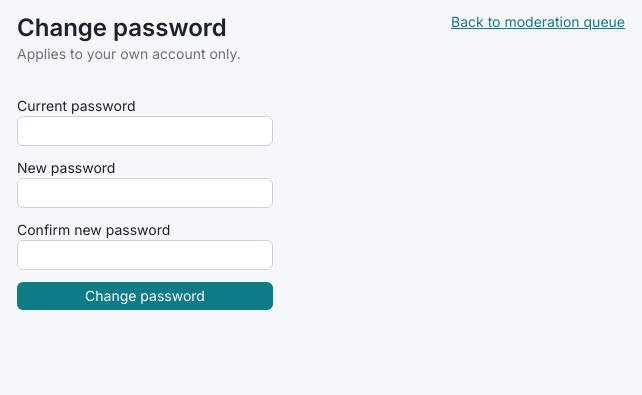
Test: ChangePasswordPage (GitHub issue #589/#591, Phase 42, D99) › changes the password on success
Expected: the text "Applies to your own account only." is shown, [17,44,241,64]
Type "old-password-value" into the password field labelled "Current password".
click(145, 131); type("old-password-value")  # box [17,116,273,146]
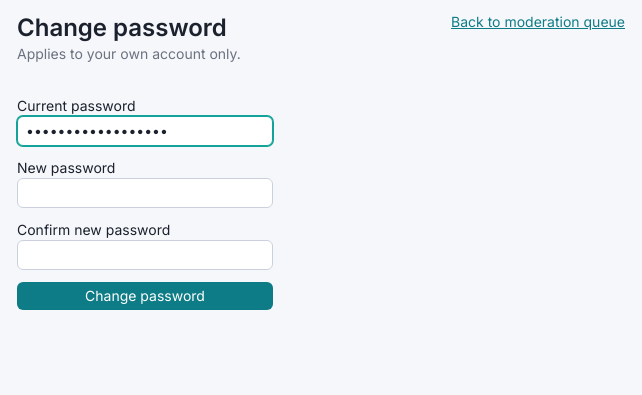
Type "a-new-strong-password" into the password field labelled "New password".
click(145, 193); type("a-new-strong-password")  # box [17,178,273,208]
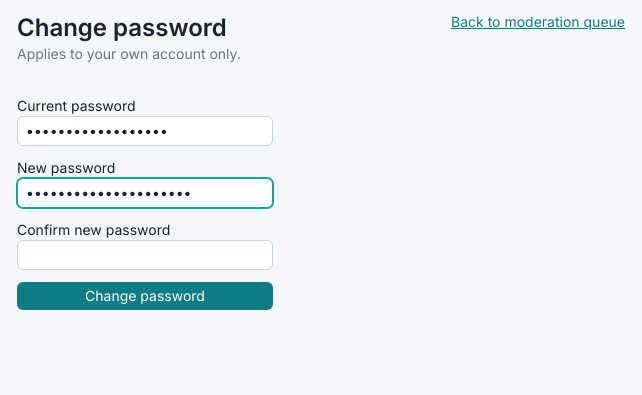
Type "a-new-strong-password" into the password field labelled "Confirm new password".
click(145, 255); type("a-new-strong-password")  # box [17,240,273,270]
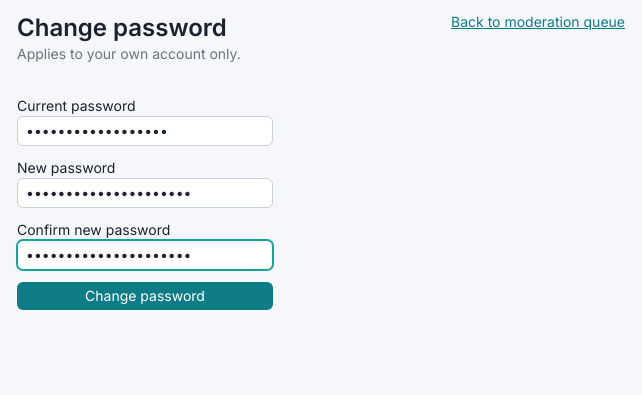
Click the button "Change password".
click(145, 296)  # box [17,282,273,310]
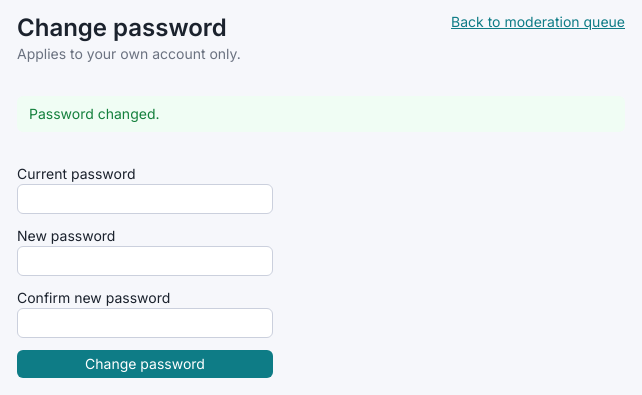
Result: the text "Password changed." is shown at [17,96,625,132]
